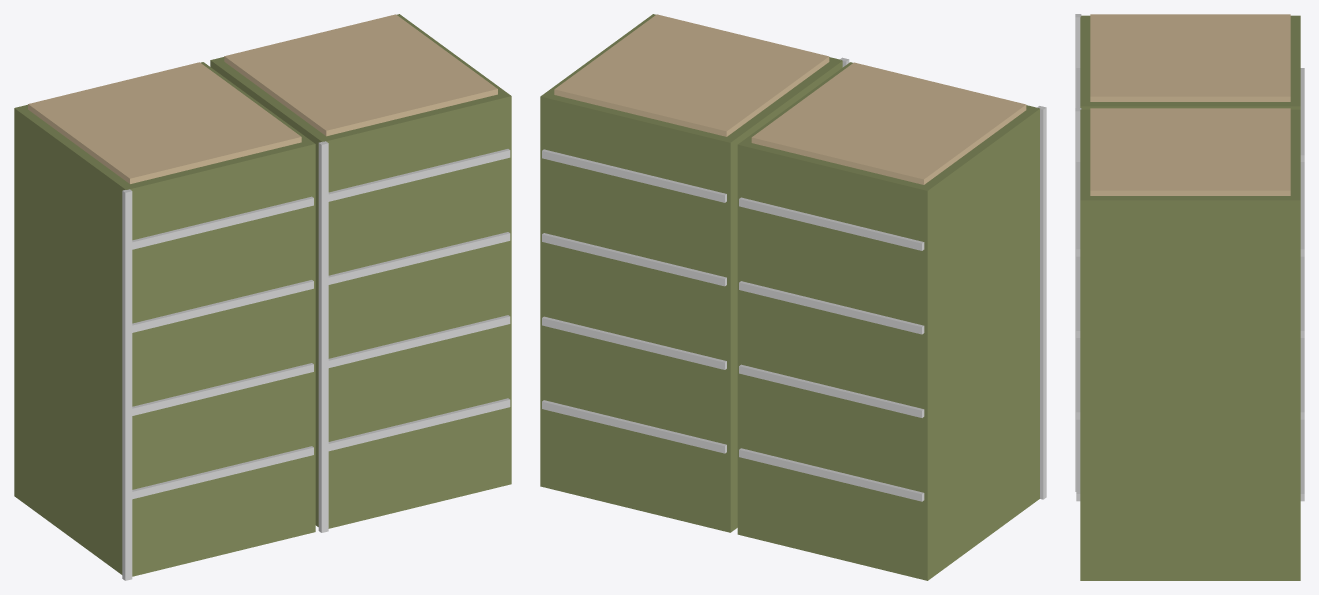
Rendered from SM_HescoCorto2_v0_MallaLimpia_e0_Sano_LOD0.fbx.
3 views of the same model, side by side, from view 1: azimuth 30°, elevation 25°; view 2: azimuth 150°, elevation 25°; view 3: azimuth 270°, elevation 25° (orthographic). The views are drawn at different scales.
Visible parts, largest first — view 1: SM_hesco_piezas_v60_LOD0; view 2: SM_hesco_piezas_v60_LOD0; view 3: SM_hesco_piezas_v60_LOD0.
Part boxes in pixels (box(x1,y1,x2,y2)): SM_hesco_piezas_v60_LOD0: box(14, 14, 511, 580); SM_hesco_piezas_v60_LOD0: box(540, 14, 1046, 580); SM_hesco_piezas_v60_LOD0: box(1075, 14, 1304, 580).
Size of the model in its own units: 2.2 by 2.13 by 1.14.
